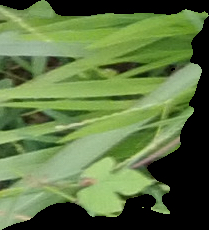grass: (1, 1, 208, 228)
